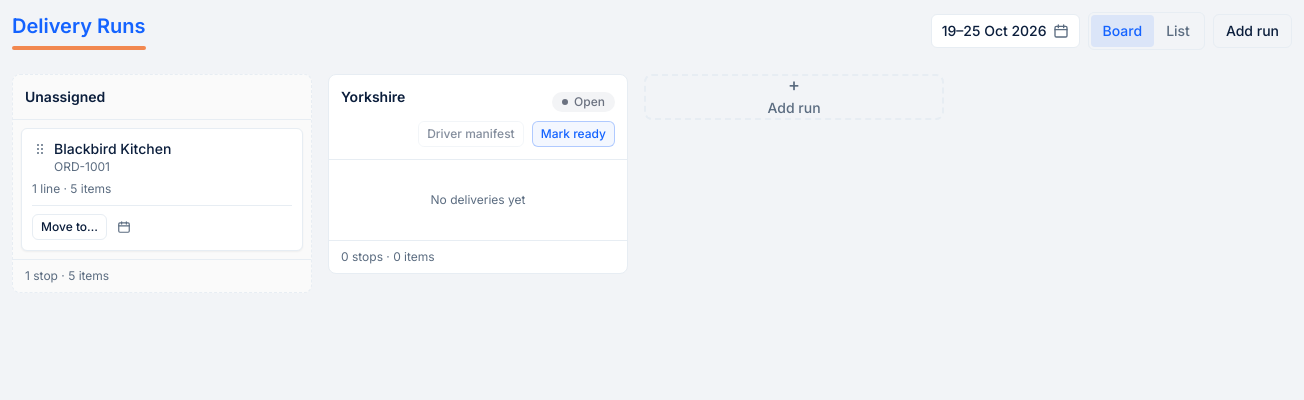
Test: DeliveryRunsPage — filters visibility › shows the filters unconditionally once List is the active view
This screenshot has width=1304, height=400.
Expected: the element with test id "board-view" is shown, 12,74 -> 944,293
Click the button "List": click(1178, 31) 1154,15 -> 1202,47
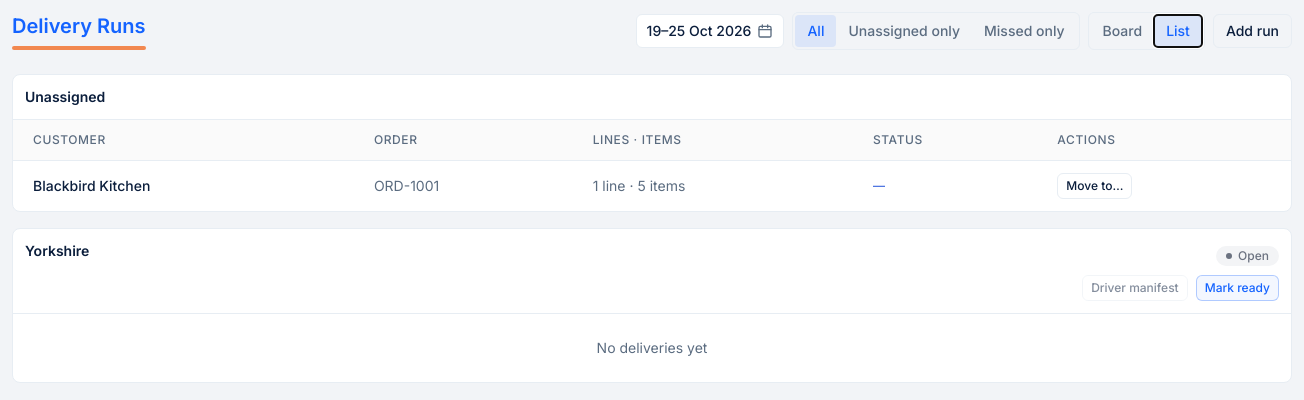
Expected: the element with test id "list-view" is shown
